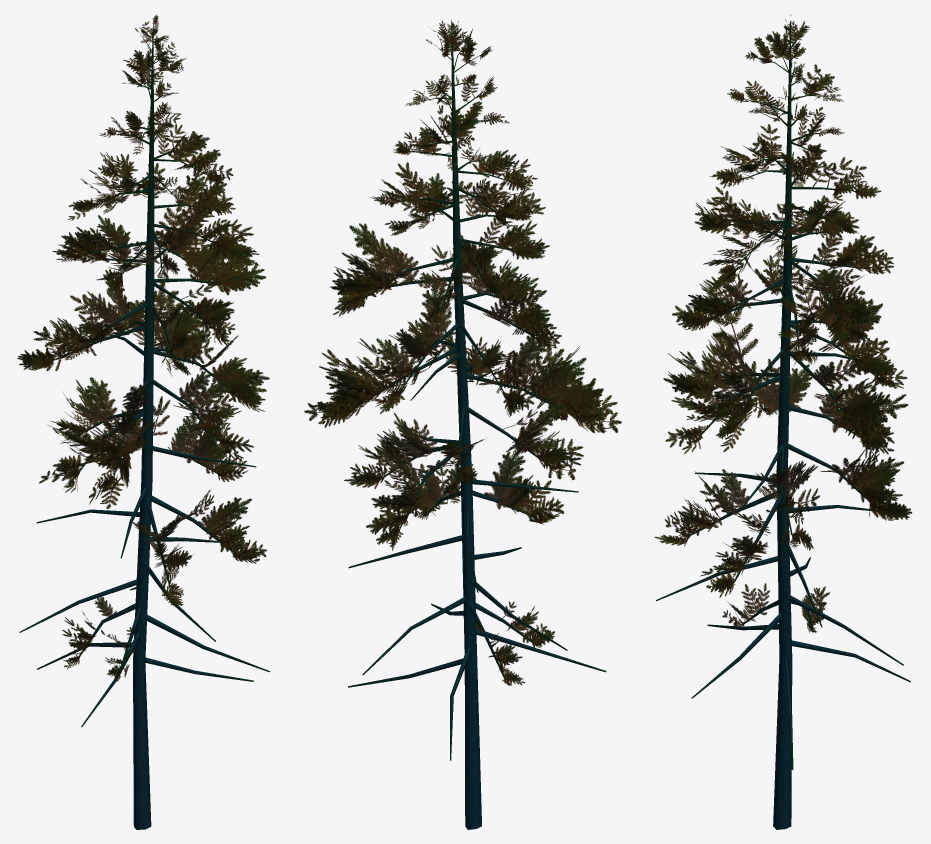
File: Douglas_Fir_B.glb
The picture shows the model from 3 angles, left to right: view 1: azimuth 30°, elevation 25°; view 2: azimuth 150°, elevation 25°; view 3: azimuth 270°, elevation 25°; orthographic projection. The views are drawn at different scales.
Parts seen in each view (by area): view 1: B_LOD0; view 2: B_LOD0; view 3: B_LOD0.
Part boxes in pixels (x1=…): B_LOD0: x1=17, y1=14, x2=269, y2=829; B_LOD0: x1=304, y1=19, x2=621, y2=829; B_LOD0: x1=654, y1=14, x2=912, y2=829.
Size of what is drawn, in the model's own units: 6.66 by 21.07 by 6.16.
Materials: 2 (2 with a texture image).
